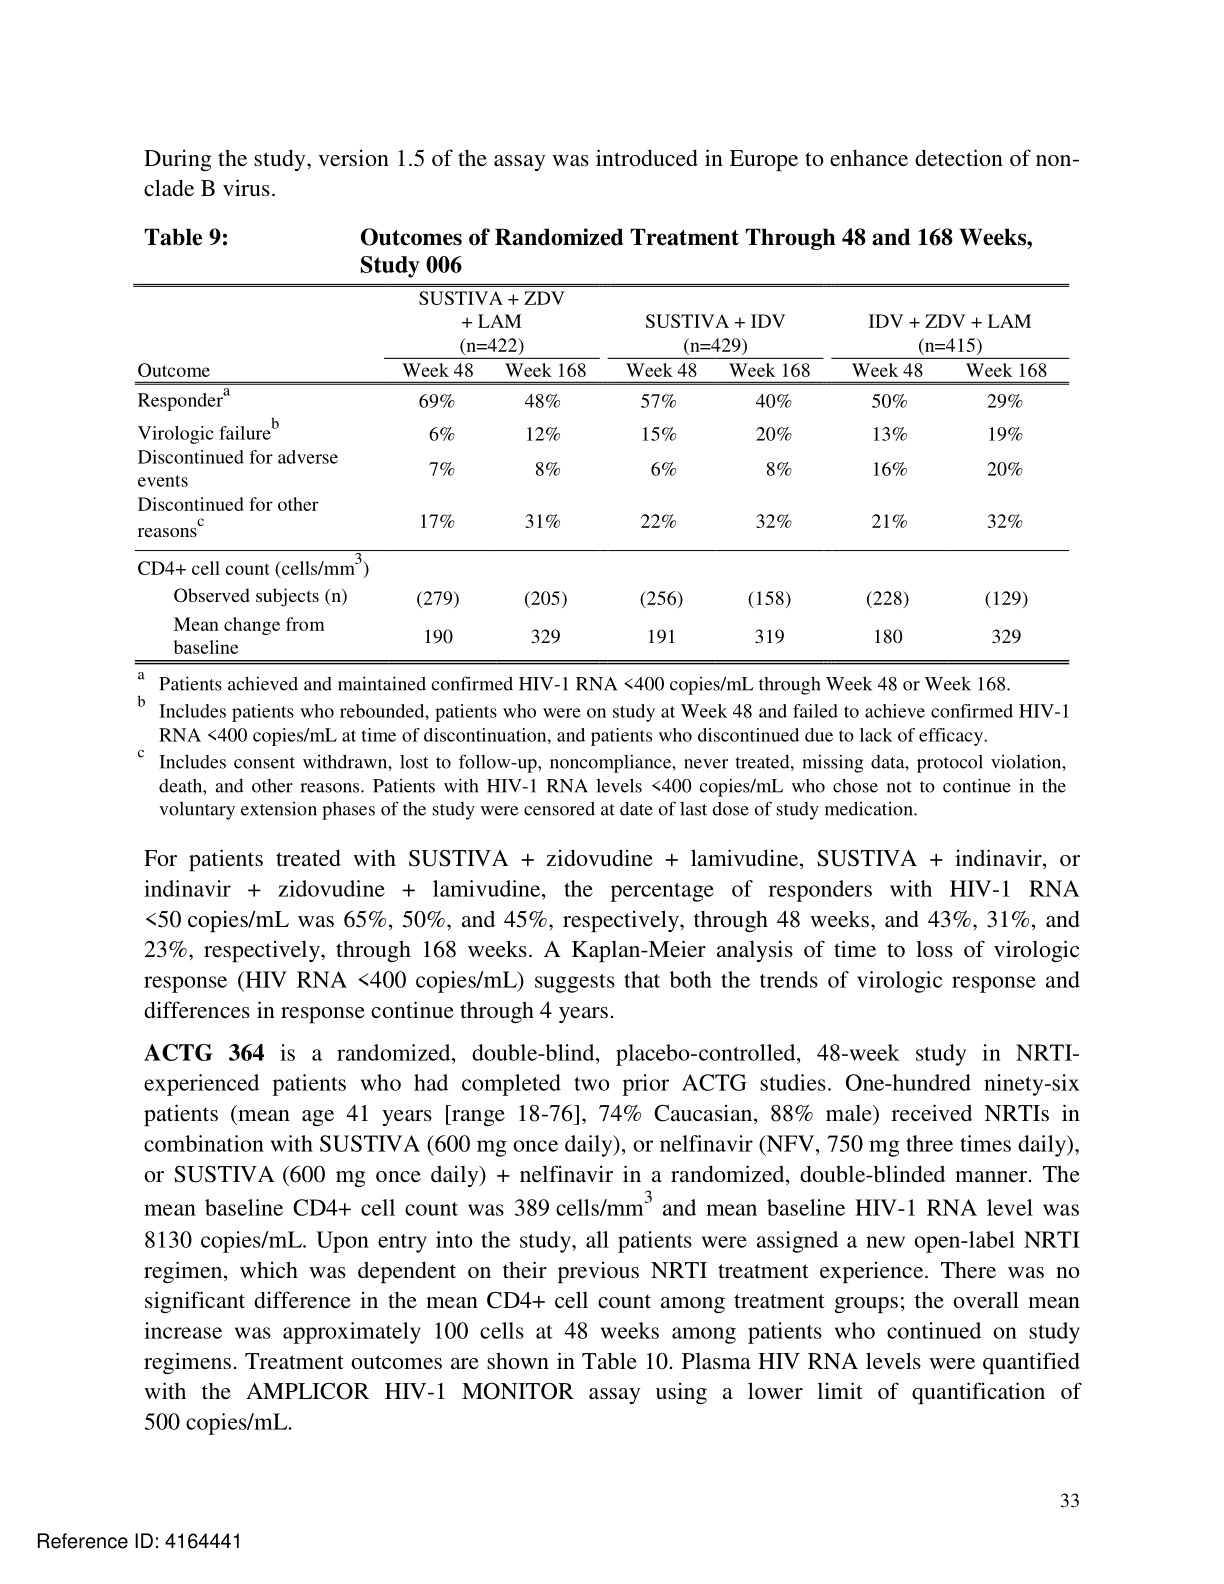partial_lined_merged_cells: (132, 283, 1070, 665)
